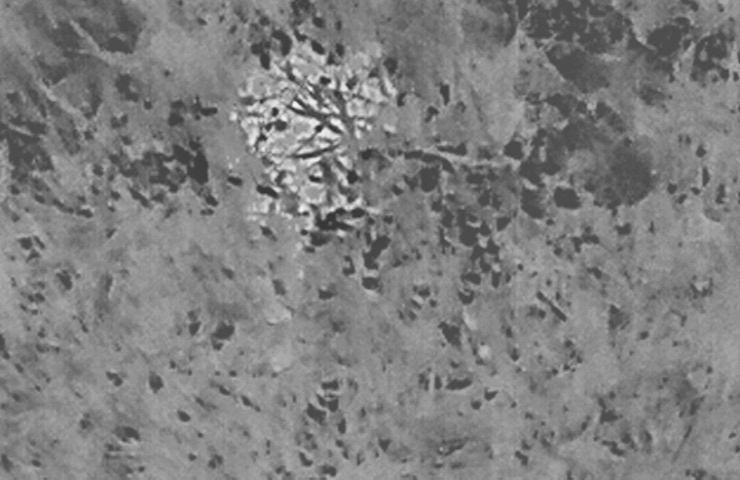landmines: (233, 39, 411, 234)
